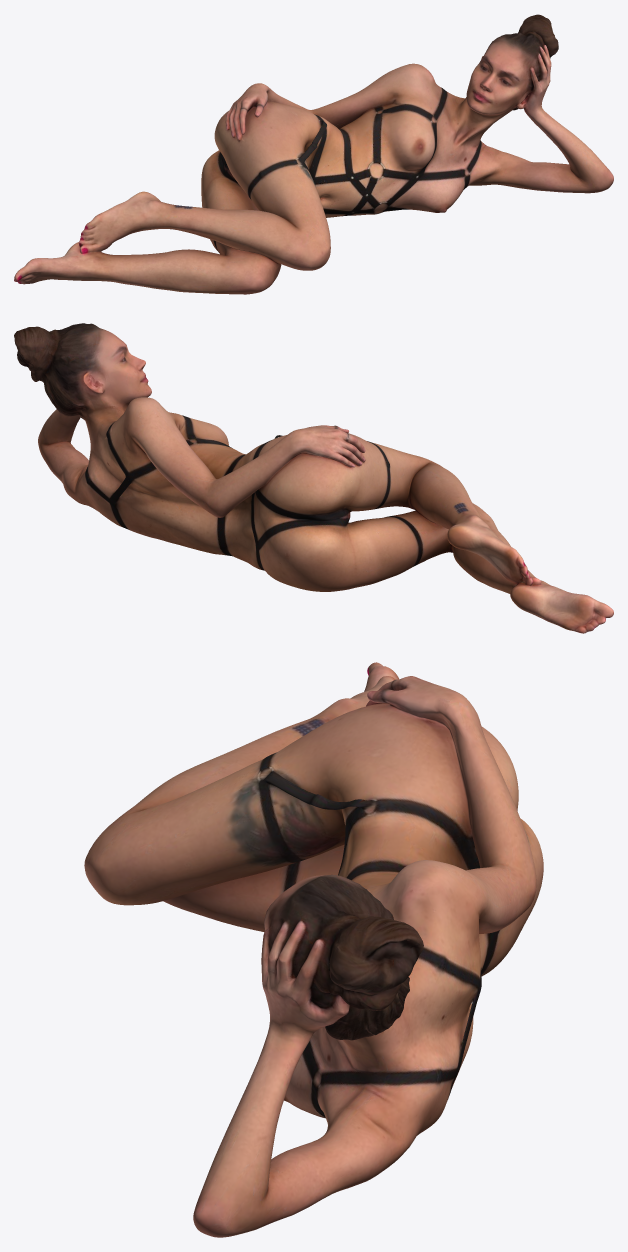
3 views of the same model, one above another, from view 1: azimuth 30°, elevation 25°; view 2: azimuth 150°, elevation 25°; view 3: azimuth 270°, elevation 25° (orthographic). The views are drawn at different scales.
Visible parts, largest first — view 1: kateNst_045FTLX_1; view 2: kateNst_045FTLX_1; view 3: kateNst_045FTLX_1.
Part boxes in pixels (x1,y1,x2,y2): kateNst_045FTLX_1: [14, 14, 613, 294]; kateNst_045FTLX_1: [14, 323, 613, 633]; kateNst_045FTLX_1: [84, 662, 543, 1237].
Size of the model in its own units: 1.75 by 0.4624 by 0.6241.
1 material, 1 textured.
